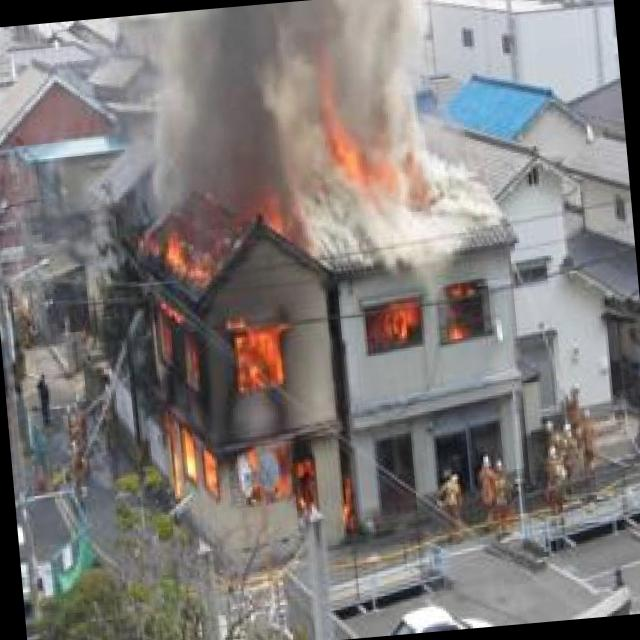Fire: (142, 198, 324, 532), (368, 280, 492, 348), (332, 123, 402, 197)
Smoke: (148, 0, 462, 269)
